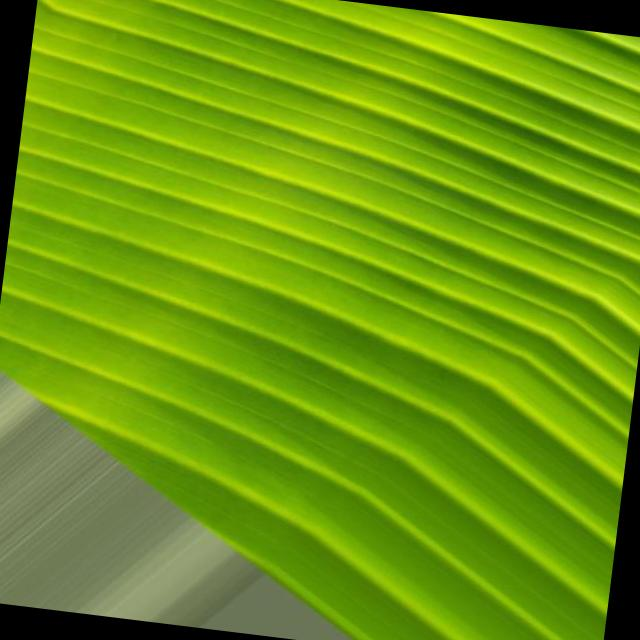Banana_Healthy: (162, 63, 620, 483)
